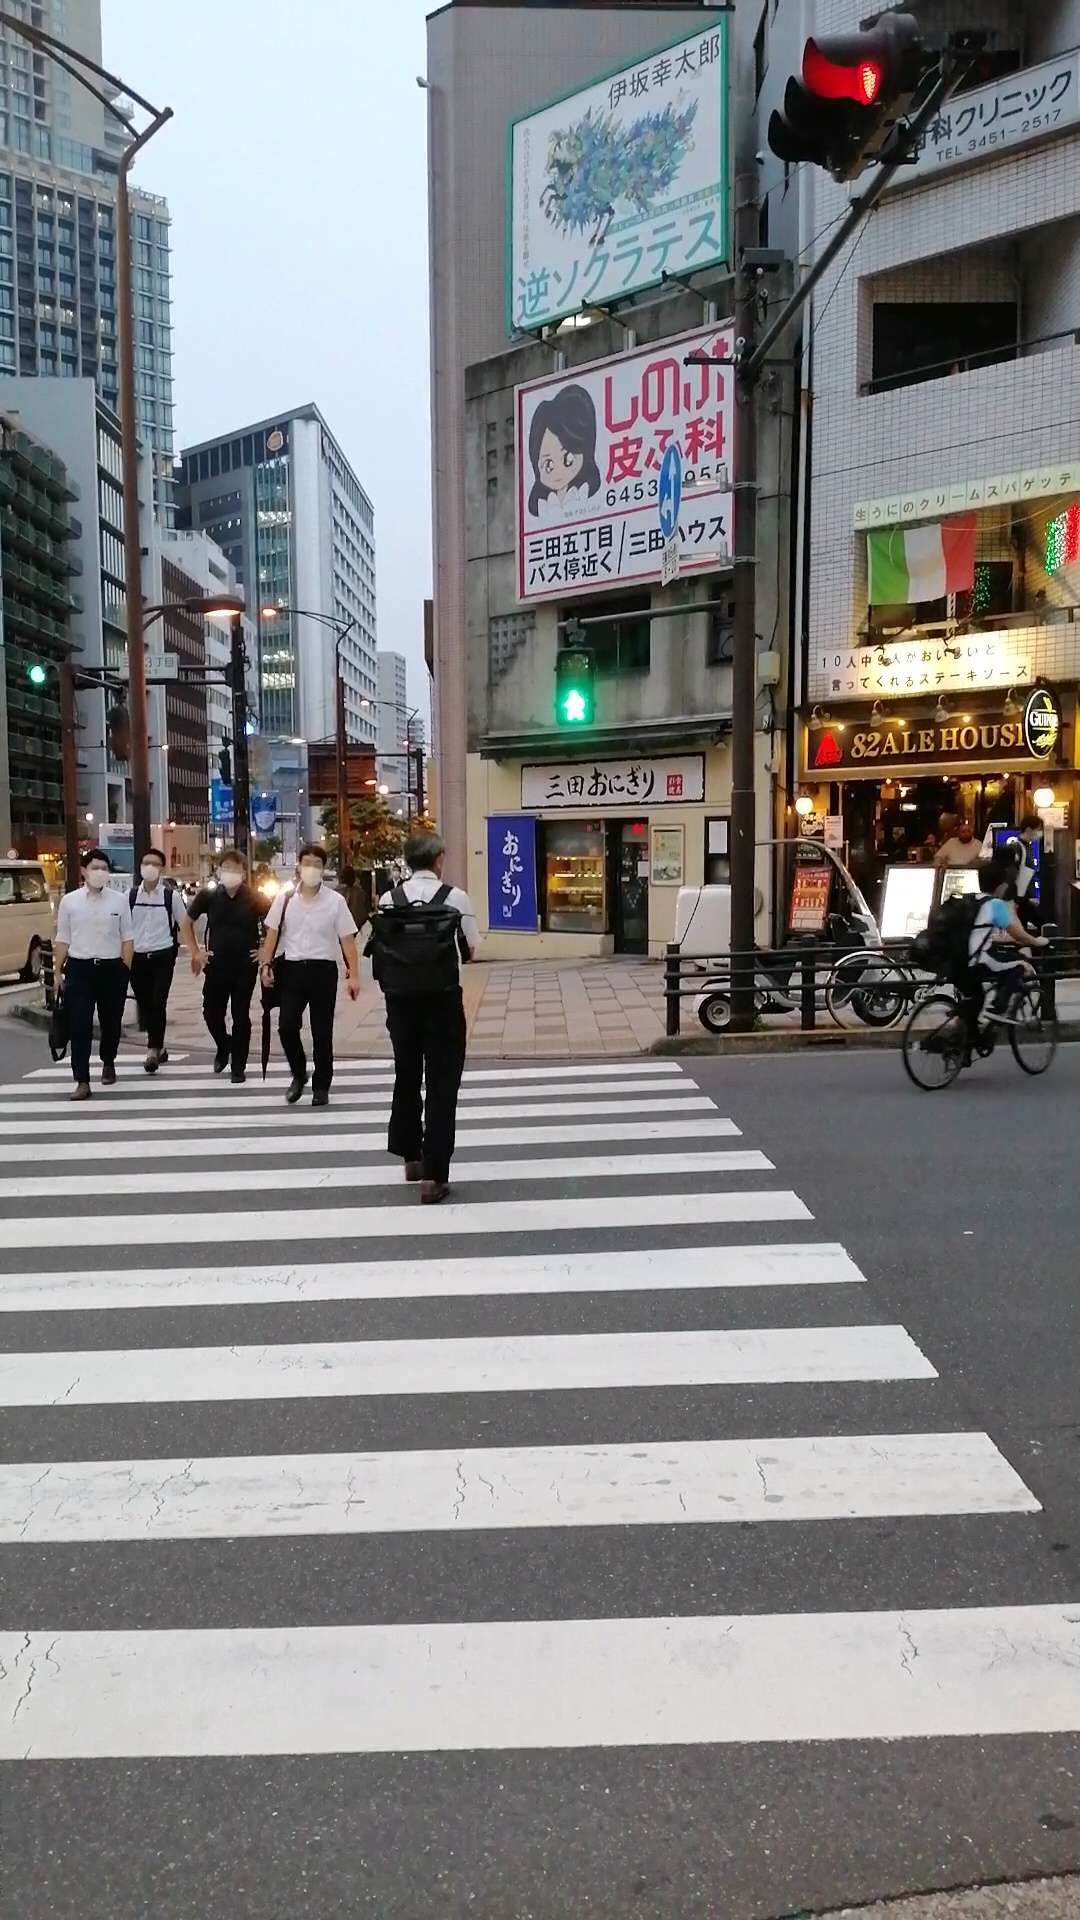green: (553, 647, 593, 725)
